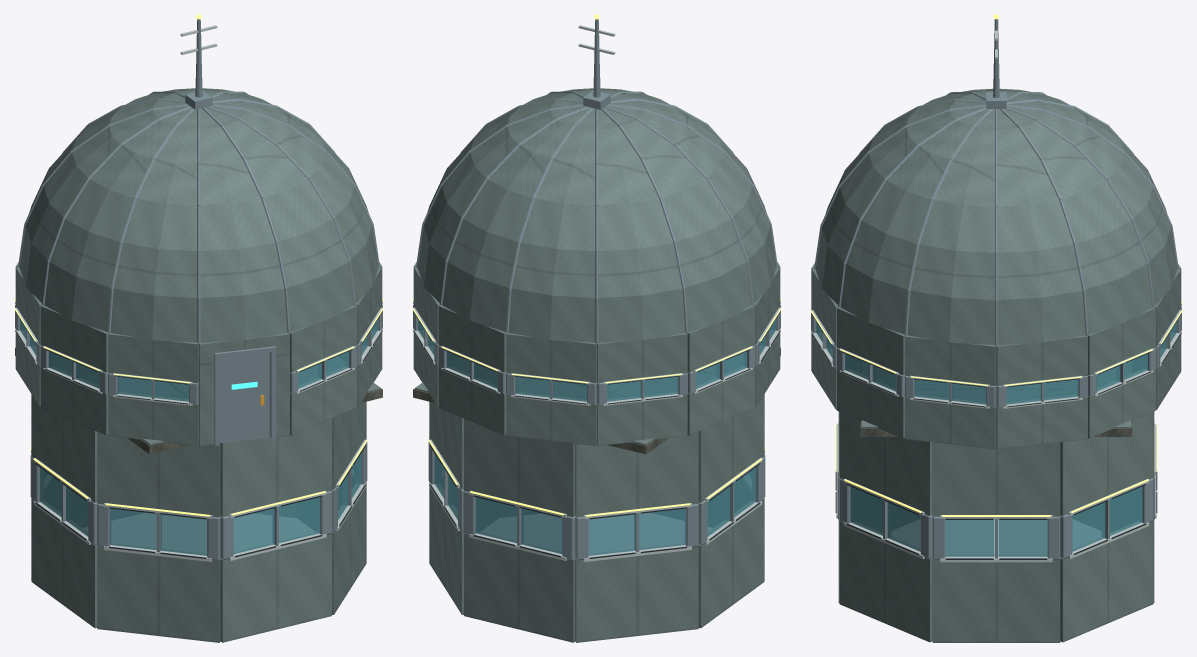
File: Observatory_11p5m.glb
The picture shows the model from 3 angles, left to right: view 1: azimuth 30°, elevation 25°; view 2: azimuth 150°, elevation 25°; view 3: azimuth 270°, elevation 25°; orthographic projection.
Visible parts, largest first — view 1: Hab_Wall_Window_2m.067, Hab_Wall_Window_2m.068, Hab_Dome_Sector_30deg.021, Hab_Dome_Sector_30deg.020, Hab_Dome_Sector_30deg.022, Hab_Dome_Sector_30deg.019, Hab_Wall_Window_2m.066, Hab_Wall_Window_2m.077, Hab_Dome_Sector_30deg.023, Hab_Dome_Sector_30deg.018, Hab_Wall_Window_2m.076, Hab_Wall_Window_2m.078 (+16 smaller); view 2: Hab_Wall_Window_2m.065, Hab_Wall_Window_2m.064, Hab_Dome_Sector_30deg.017, Hab_Dome_Sector_30deg.016, Hab_Dome_Sector_30deg.018, Hab_Dome_Sector_30deg.015, Hab_Wall_Window_2m.066, Hab_Wall_Window_2m.073, Hab_Wall_Window_2m.074, Hab_Dome_Sector_30deg.019, Hab_Dome_Sector_30deg.014, Hab_Wall_Window_2m.072 (+16 smaller); view 3: Hab_Wall_Window_2m.062, Hab_Wall_Window_2m.063, Hab_Wall_Window_2m.069, Hab_Dome_Sector_30deg.013, Hab_Dome_Sector_30deg.024, Hab_Dome_Sector_30deg.014, Hab_Dome_Sector_30deg.023, Hab_Wall_Window_2m.080, Hab_Wall_Window_2m.070, Hab_Dome_Sector_30deg.015, Hab_Dome_Sector_30deg.022, Hab_Wall_Window_2m.071 (+16 smaller).
Boxes of the visible parts, <box> form: Hab_Wall_Window_2m.067: <box>97,432,220,642</box>; Hab_Wall_Window_2m.068: <box>220,418,332,642</box>; Hab_Dome_Sector_30deg.021: <box>197,108,287,343</box>; Hab_Dome_Sector_30deg.020: <box>108,108,197,342</box>; Hab_Dome_Sector_30deg.022: <box>202,107,353,332</box>; Hab_Dome_Sector_30deg.019: <box>42,106,192,331</box>; Hab_Wall_Window_2m.066: <box>31,395,97,628</box>; Hab_Wall_Window_2m.077: <box>108,333,198,445</box>; Hab_Dome_Sector_30deg.023: <box>206,106,378,305</box>; Hab_Dome_Sector_30deg.018: <box>18,104,189,302</box>; Hab_Wall_Window_2m.076: <box>40,305,108,435</box>; Hab_Wall_Window_2m.078: <box>289,305,357,435</box>; Hab_Wall_Window_2m.065: <box>575,432,698,642</box>; Hab_Wall_Window_2m.064: <box>463,418,575,642</box>; Hab_Dome_Sector_30deg.017: <box>595,109,685,343</box>; Hab_Dome_Sector_30deg.016: <box>506,107,595,342</box>; Hab_Dome_Sector_30deg.018: <box>601,108,751,332</box>; Hab_Dome_Sector_30deg.015: <box>440,106,590,331</box>; Hab_Wall_Window_2m.066: <box>698,395,764,628</box>; Hab_Wall_Window_2m.073: <box>506,333,596,445</box>; Hab_Wall_Window_2m.074: <box>597,333,687,445</box>; Hab_Dome_Sector_30deg.019: <box>604,106,776,305</box>; Hab_Dome_Sector_30deg.014: <box>416,104,585,302</box>; Hab_Wall_Window_2m.072: <box>438,305,506,435</box>; Hab_Wall_Window_2m.062: <box>932,442,1060,642</box>; Hab_Wall_Window_2m.063: <box>1060,412,1153,642</box>; Hab_Wall_Window_2m.069: <box>839,412,932,642</box>; Hab_Dome_Sector_30deg.013: <box>995,109,1085,345</box>; Hab_Dome_Sector_30deg.024: <box>904,109,994,345</box>; Hab_Dome_Sector_30deg.014: <box>999,109,1152,335</box>; Hab_Dome_Sector_30deg.023: <box>838,107,989,334</box>; Hab_Wall_Window_2m.080: <box>905,335,996,449</box>; Hab_Wall_Window_2m.070: <box>996,335,1087,449</box>; Hab_Dome_Sector_30deg.015: <box>1006,106,1177,307</box>; Hab_Dome_Sector_30deg.022: <box>814,104,986,304</box>; Hab_Wall_Window_2m.071: <box>1087,307,1155,438</box>.
Size of the model in its own units: 8.23 by 13.72 by 8.23.
Materials: 9 (2 with a texture image).
